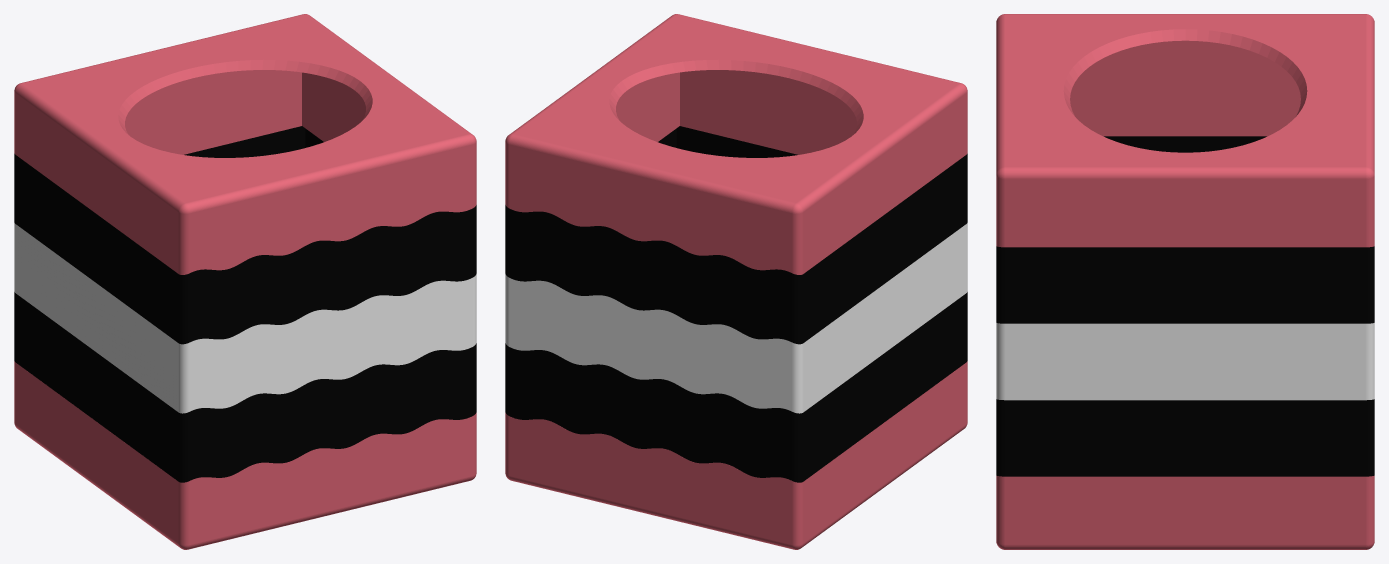
Rendered from liquorice_allsort_tissue_box.glb.
3 renders of one model, left to right at view 1: azimuth 30°, elevation 25°; view 2: azimuth 150°, elevation 25°; view 3: azimuth 270°, elevation 25°, orthographic. The views are drawn at different scales.
Visible parts, largest first — view 1: liquorice_allsort_tissue_box_5, liquorice_allsort_tissue_box_4, liquorice_allsort_tissue_box_2, liquorice_allsort_tissue_box_3, liquorice_allsort_tissue_box_1; view 2: liquorice_allsort_tissue_box_5, liquorice_allsort_tissue_box_4, liquorice_allsort_tissue_box_2, liquorice_allsort_tissue_box_3, liquorice_allsort_tissue_box_1; view 3: liquorice_allsort_tissue_box_5, liquorice_allsort_tissue_box_4, liquorice_allsort_tissue_box_3, liquorice_allsort_tissue_box_2, liquorice_allsort_tissue_box_1.
Boxes of the visible parts, box(x1,y1,x2,y2) form: liquorice_allsort_tissue_box_5: box(14, 14, 476, 274); liquorice_allsort_tissue_box_4: box(14, 126, 476, 344); liquorice_allsort_tissue_box_2: box(14, 292, 476, 482); liquorice_allsort_tissue_box_3: box(14, 223, 476, 413); liquorice_allsort_tissue_box_1: box(14, 361, 476, 549); liquorice_allsort_tissue_box_5: box(505, 14, 967, 274); liquorice_allsort_tissue_box_4: box(505, 126, 967, 344); liquorice_allsort_tissue_box_2: box(505, 292, 967, 482); liquorice_allsort_tissue_box_3: box(505, 223, 967, 413); liquorice_allsort_tissue_box_1: box(505, 361, 967, 549); liquorice_allsort_tissue_box_5: box(996, 14, 1374, 247); liquorice_allsort_tissue_box_4: box(996, 136, 1374, 323); liquorice_allsort_tissue_box_3: box(996, 323, 1374, 400); liquorice_allsort_tissue_box_2: box(996, 399, 1374, 476); liquorice_allsort_tissue_box_1: box(996, 475, 1374, 549).
Bounding box in the file's own units: 12.3 × 13.7 × 12.3.
